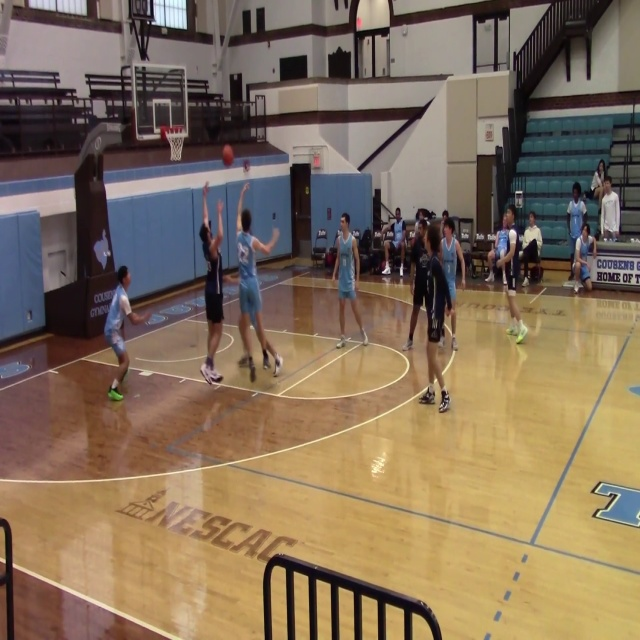Basketball: (221, 144, 234, 166), (243, 159, 250, 171)
